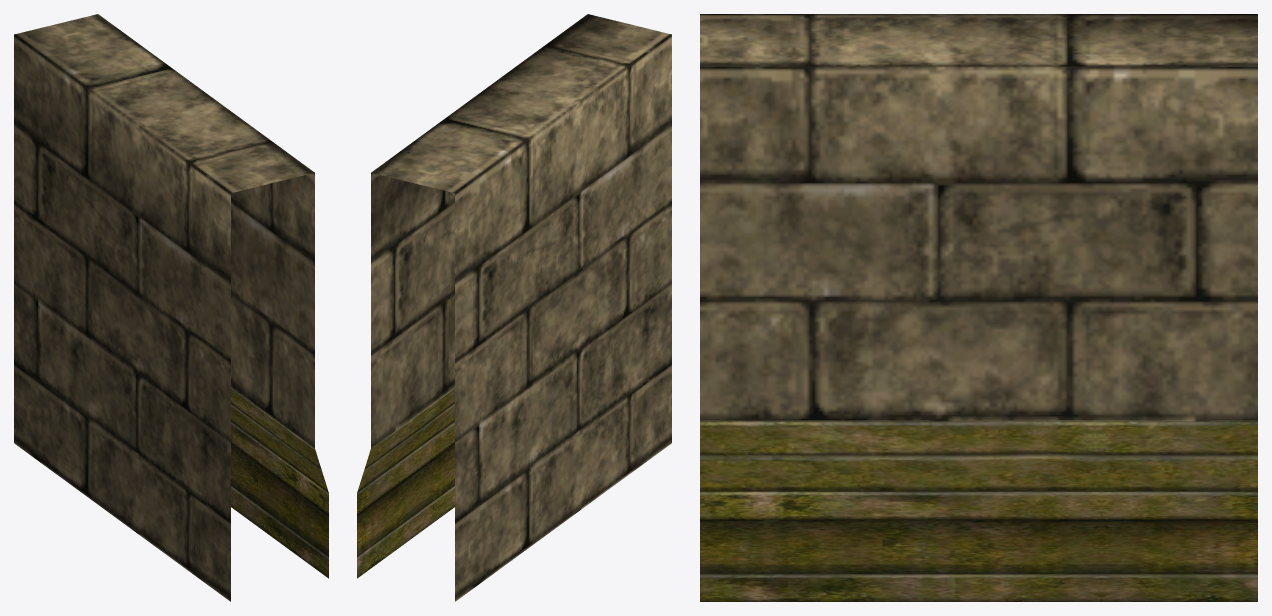
The model's file is ANIMATEDINSTANCES_MAZE_DOOR_003__AI.fbx.
3 views of the same model, side by side, from view 1: azimuth 30°, elevation 25°; view 2: azimuth 150°, elevation 25°; view 3: azimuth 270°, elevation 25° (orthographic). The views are drawn at different scales.
Parts seen in each view (by area): view 1: ANIMATEDINSTANCES_MAZE_DOOR_003__AI; view 2: ANIMATEDINSTANCES_MAZE_DOOR_003__AI; view 3: ANIMATEDINSTANCES_MAZE_DOOR_003__AI.
Part boxes in pixels (left/top/right/bottom): ANIMATEDINSTANCES_MAZE_DOOR_003__AI: left=14, top=14, right=328, bottom=601; ANIMATEDINSTANCES_MAZE_DOOR_003__AI: left=357, top=14, right=671, bottom=601; ANIMATEDINSTANCES_MAZE_DOOR_003__AI: left=700, top=14, right=1257, bottom=601.
Bounding box in the file's own units: 9486 × 37861 × 36360.
Materials: 3 (3 with a texture image).
